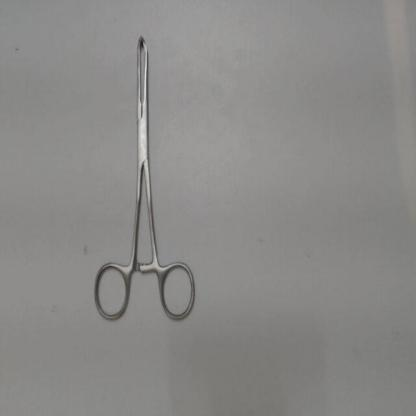Allis Tissue Forceps: (86, 20, 205, 329)
